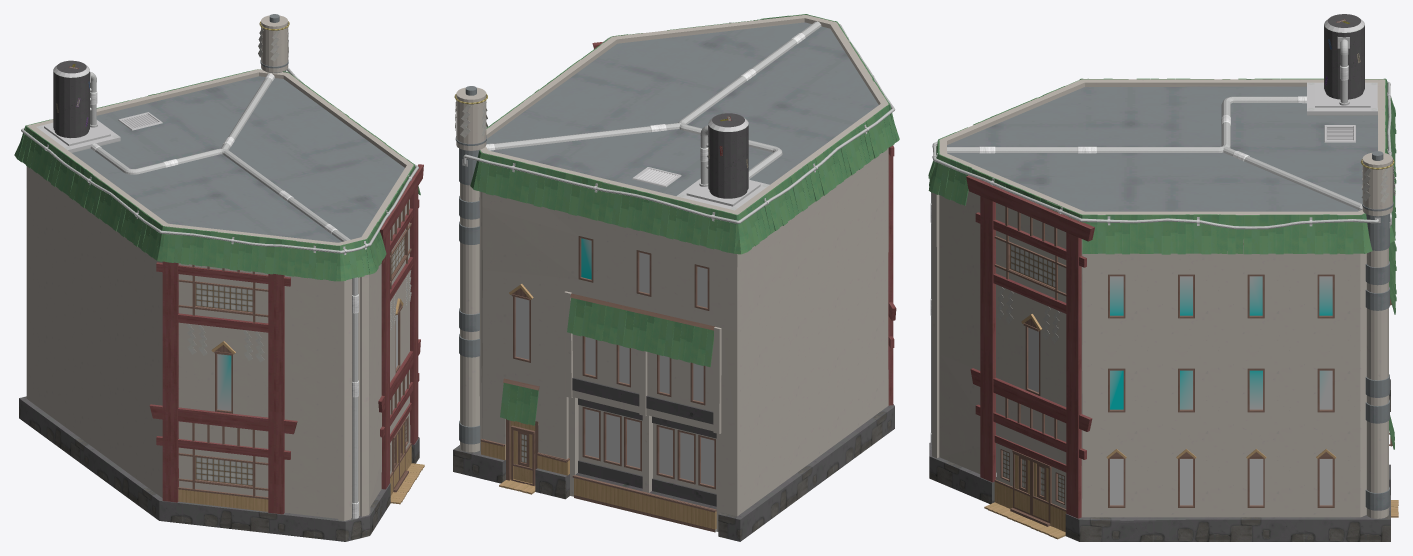
File: SM_ENV_KNVLLG_AreaB_Building_B.fbx
3 renders of one model, left to right at view 1: azimuth 30°, elevation 25°; view 2: azimuth 150°, elevation 25°; view 3: azimuth 270°, elevation 25°, orthographic. The views are drawn at different scales.
Visible parts, largest first — view 1: SM_ENV_KNVLLG_AreaB_Building_B.mo; view 2: SM_ENV_KNVLLG_AreaB_Building_B.mo; view 3: SM_ENV_KNVLLG_AreaB_Building_B.mo.
Boxes of the visible parts, x1=… form: SM_ENV_KNVLLG_AreaB_Building_B.mo: x1=14, y1=14, x2=424, y2=541; SM_ENV_KNVLLG_AreaB_Building_B.mo: x1=453, y1=14, x2=899, y2=541; SM_ENV_KNVLLG_AreaB_Building_B.mo: x1=928, y1=14, x2=1398, y2=541.
Bounding box in the file's own units: 3808 × 4753 × 5095.
